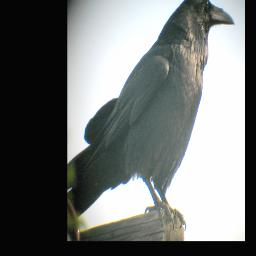Crow: (68, 0, 236, 231)
